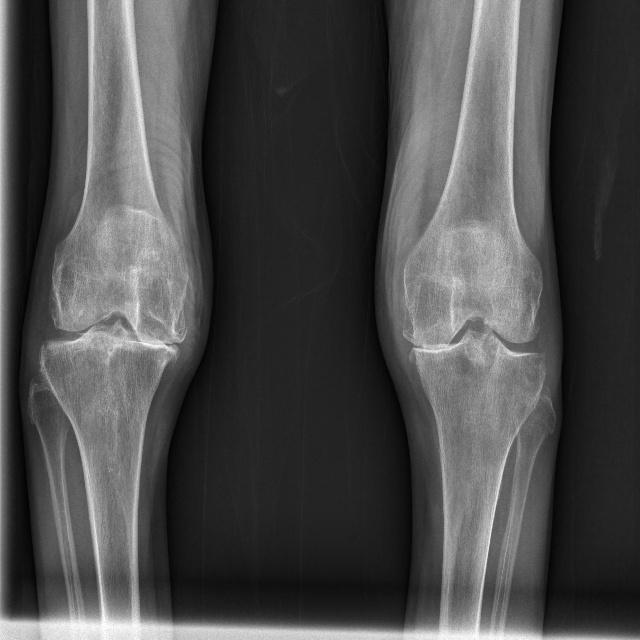Knee: (37, 269, 196, 384), (401, 274, 545, 396)
